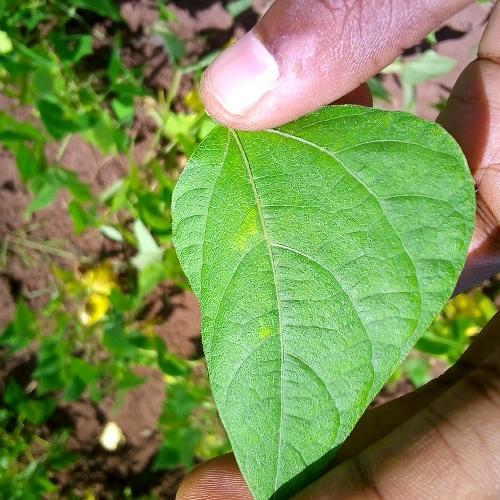mozaik: (224, 200, 276, 346)
sehat: (298, 168, 420, 330)
